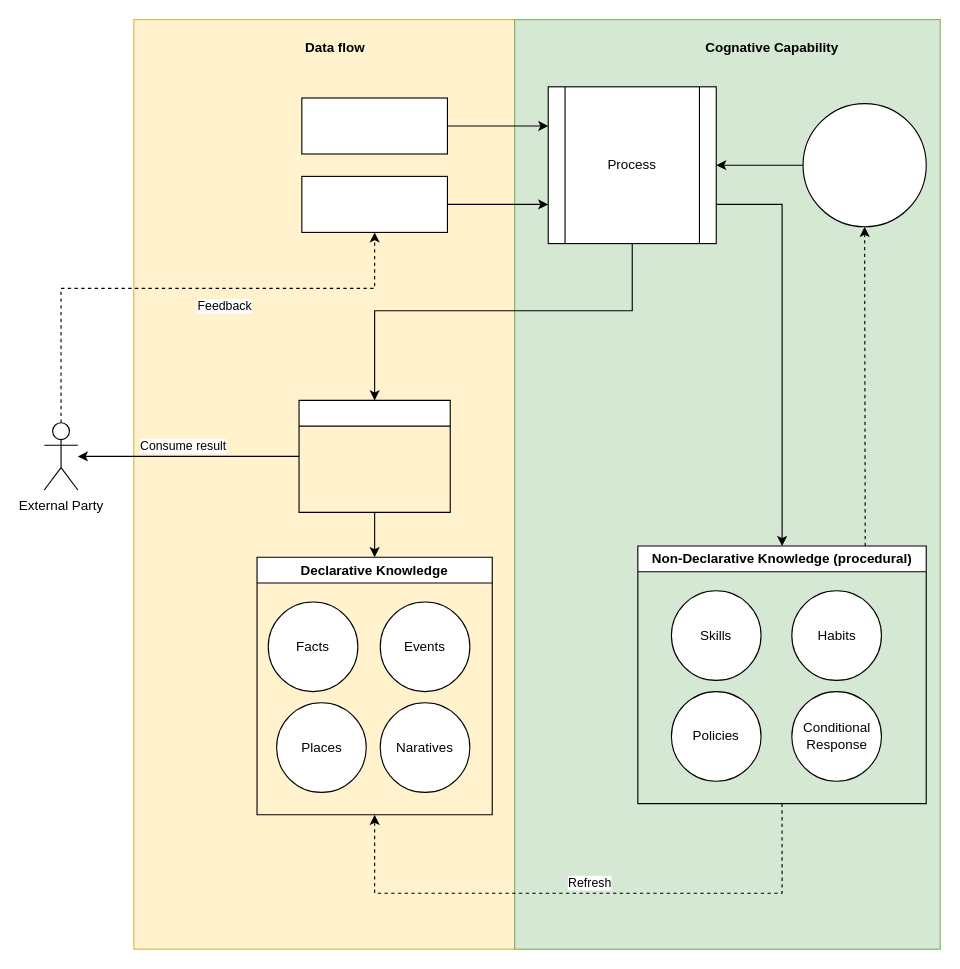
The diagram is 960 pixels wide and 969 high, and some of its shapes have lost their labels. The centre of each missing label's shape, as x and y in pixels:
"Goal" goes at pixel 864 164.
"Information intaking" goes at pixel 374 203.
"Information Scrapping" goes at pixel 374 125.
"Result" goes at pixel 374 455.
